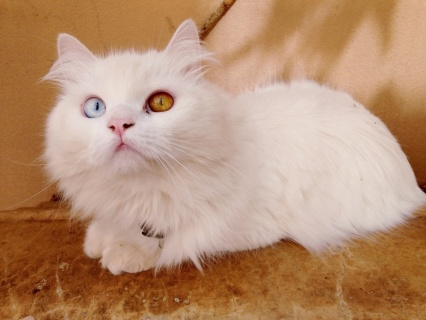Cat: (0, 16, 426, 280)
